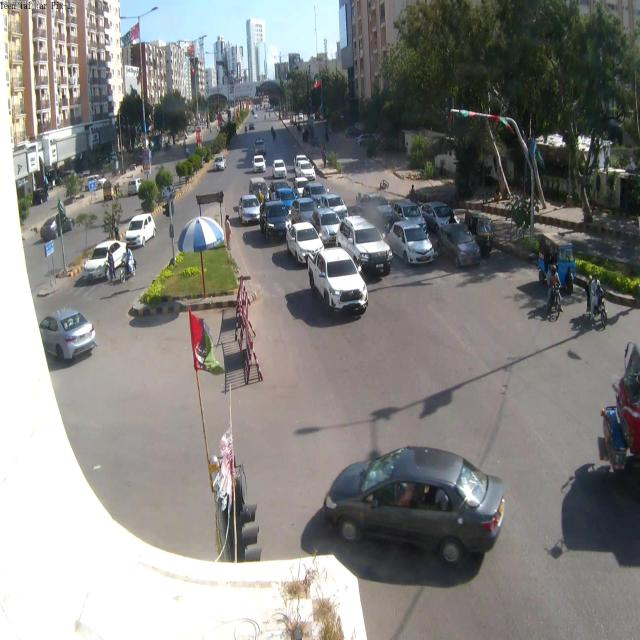car: (317, 447, 510, 574), (305, 246, 367, 319), (337, 215, 395, 282), (39, 308, 98, 364), (387, 219, 438, 266), (82, 242, 134, 288), (285, 221, 325, 268), (448, 224, 482, 270), (260, 202, 294, 242), (314, 205, 345, 247), (288, 197, 321, 234), (125, 213, 158, 248), (419, 201, 455, 227), (238, 193, 264, 226), (294, 155, 316, 180), (42, 218, 62, 242), (274, 185, 296, 204), (235, 153, 254, 173), (271, 159, 286, 179), (215, 155, 228, 171), (254, 155, 265, 172), (255, 139, 266, 156)
motorbike: (584, 272, 608, 324), (546, 266, 564, 322), (120, 246, 140, 282)
